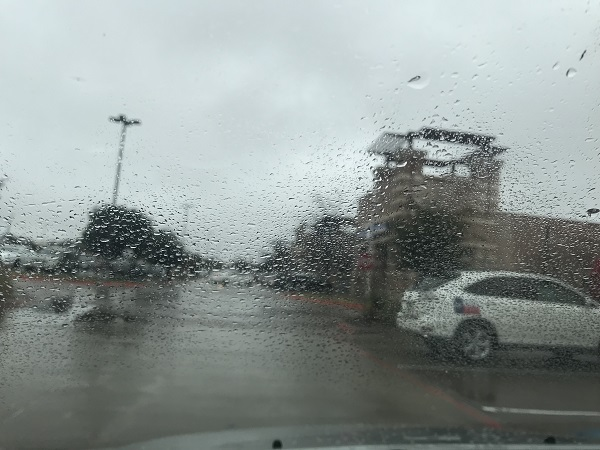car: (397, 263, 600, 364)
